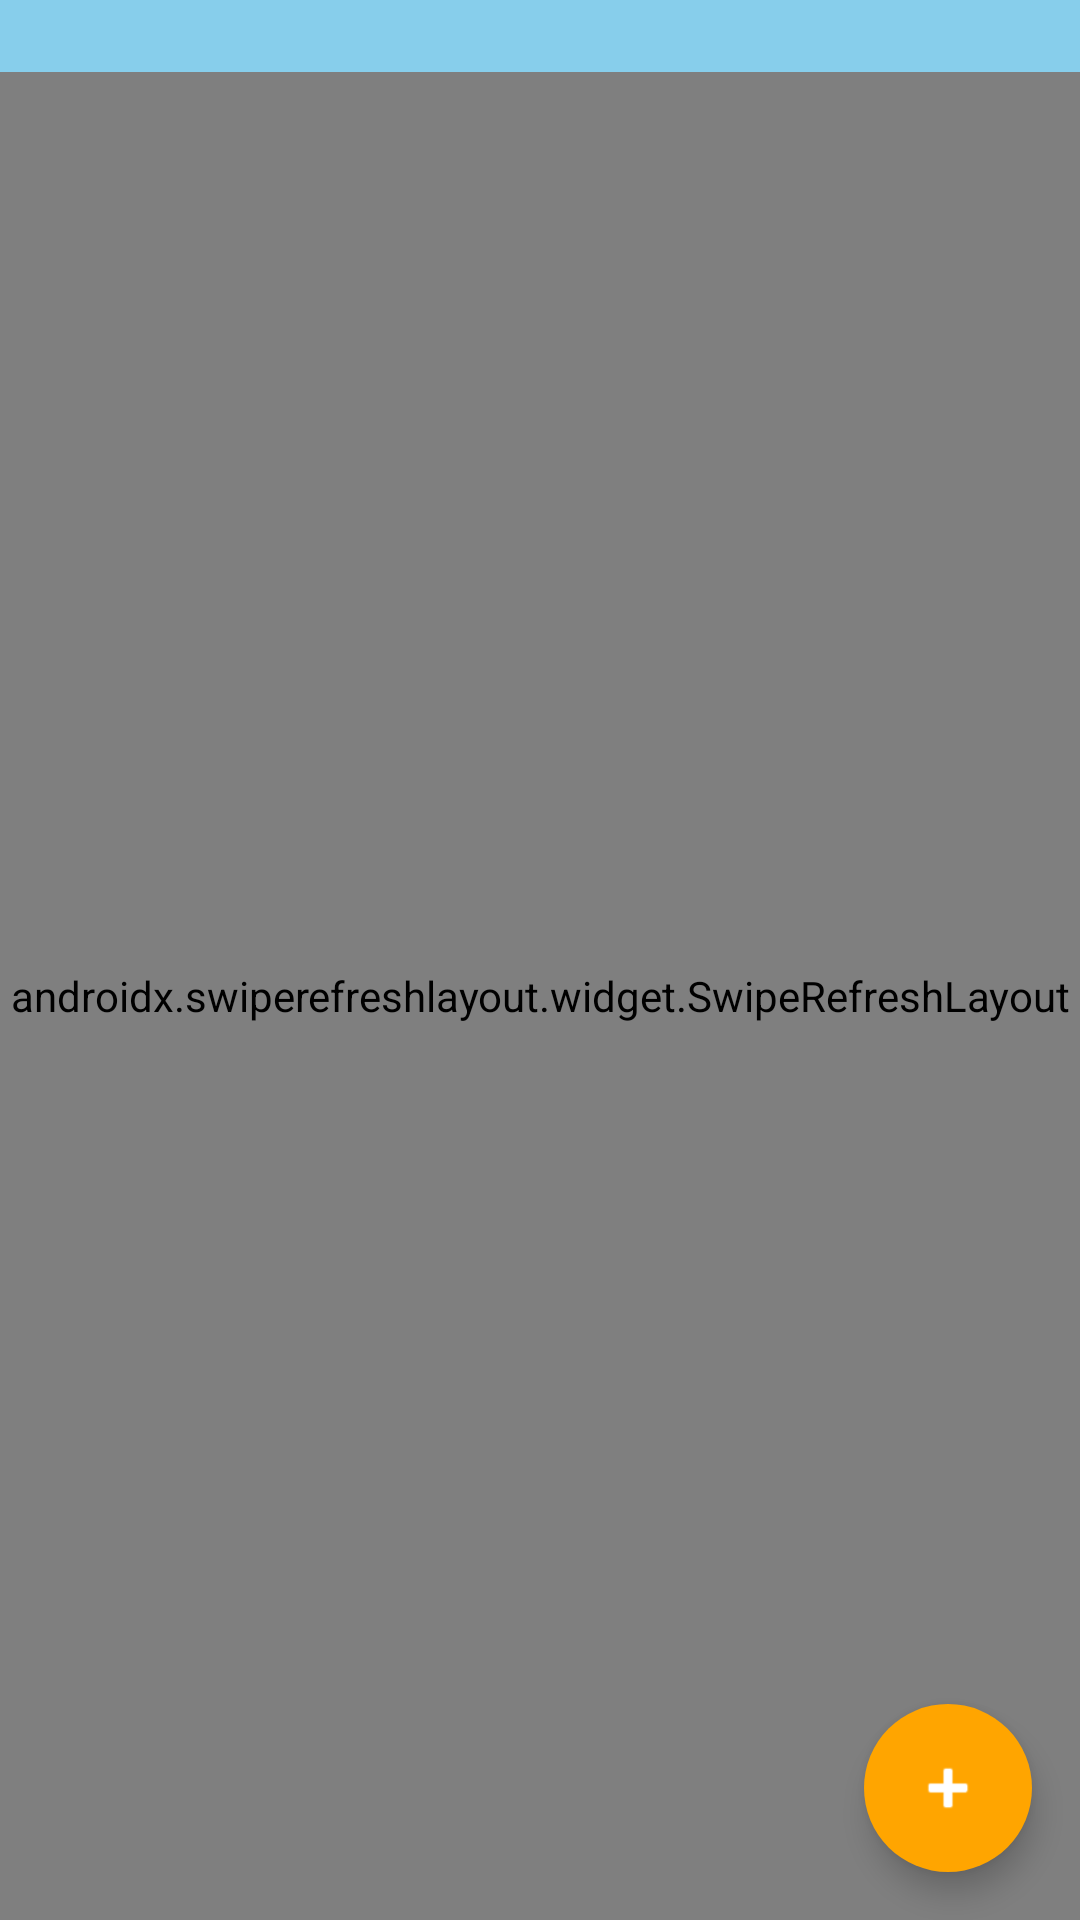

Where to tap for icons on this 1080×1920 app screen, as [x,y]:
Add city: [948,1788]
